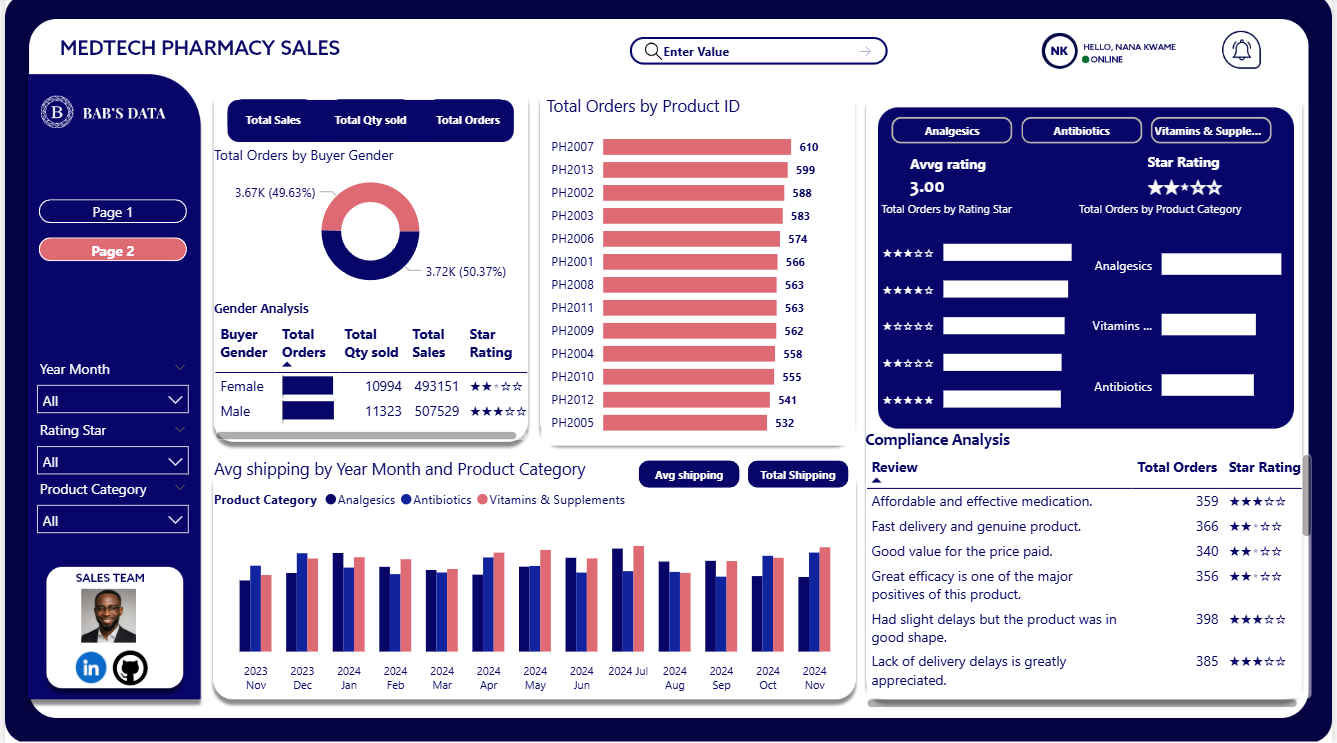

The page's visual inventory and layout, read from the dashboard file:
{"tool":"powerbi","page":{"name":"Page 2","canvas":[1280,720],"ordinal":1},"visuals":[{"type":"advancedSlicerVisual","fields":{"Values":["KPIs.KPIs"]},"box":[209.9,92.9,287.1,49.5],"z":0},{"type":"clusteredBarChart","fields":{"Y":["Analysis.Total Orders"],"Category":["Products_dim.Product ID"]},"box":[517.6,92.9,302.8,339],"z":1000},{"type":"tableEx","title":"Gender Analysis","fields":{"Values":["Sales-facts.Buyer Gender","Analysis.Total Orders","Analysis.Total Qty sold","Analysis.Total Sales","Analysis.Star Rating"]},"box":[196.6,290.8,312.5,141.2],"z":2000},{"type":"donutChart","fields":{"Y":["Analysis.Total Orders"],"Category":["Sales-facts.Buyer Gender"]},"box":[196.6,142.4,312.5,148.4],"z":3000},{"type":"clusteredColumnChart","fields":{"Y":["Analysis.Avg shipping"],"Category":["Date_Table.Year Month"],"Series":["Products_dim.Product Category"]},"box":[196.6,442.8,623.7,235.3],"z":4000},{"type":"advancedSlicerVisual","fields":{"Values":["Shipping.Shipping"]},"box":[606.8,441.6,213.5,36.2],"z":5000},{"type":"advancedSlicerVisual","fields":{"Values":["Products_dim.Product Category"]},"box":[850.5,109.8,378.8,36.2],"z":6000},{"type":"cardVisual","fields":{"Data":["Analysis.Avvg rating","Analysis.Star Rating"]},"box":[856.6,139.9,389.7,62.7],"z":7000},{"type":"clusteredBarChart","fields":{"Y":["Analysis.Total Orders"],"Category":["Sales-facts.Rating Star"]},"box":[840.9,196.6,229.2,219.6],"z":8000},{"type":"clusteredBarChart","fields":{"Y":["Analysis.Total Orders"],"Category":["Products_dim.Product Category"]},"box":[1031.5,196.6,209.9,219.6],"z":9000},{"type":"tableEx","title":"Compliance Analysis","fields":{"Values":["Sales-facts.Review","Analysis.Total Orders","Analysis.Star Rating"]},"box":[824.7,416,440.7,274.1],"z":10000},{"type":"slicer","fields":{"Values":["Date_Table.Year Month"]},"box":[20.5,343.8,166.5,78.4],"z":11000},{"type":"slicer","fields":{"Values":["Sales-facts.Rating Star"]},"box":[20.5,403,166.5,56.7],"z":12000},{"type":"slicer","fields":{"Values":["Products_dim.Product Category"]},"box":[20.5,459.7,166.5,74.8],"z":13000},{"type":"pageNavigator","box":[32.6,194.2,143.6,60.3],"z":14000},{"type":"image","box":[73.8,570,52.5,53.8],"z":15000},{"type":"image","box":[52.5,631.2,60,30],"z":16000},{"type":"image","box":[92.5,630,56.2,33.8],"z":17000},{"type":"textSlicer","box":[616,29.6,234.6,35.8],"z":18000}]}

Visuals, with their boxes in screenshot pixels (x1, y1, x2, y2), scaled from the page's 1280x720 canvas onto the 1337x743 screenshot:
advancedSlicerVisual - KPIs.KPIs: [219, 96, 519, 147]
clusteredBarChart - Analysis.Total Orders x Products_dim.Product ID: [541, 96, 857, 446]
"Gender Analysis" tableEx: [205, 300, 532, 446]
donutChart - Analysis.Total Orders x Sales-facts.Buyer Gender: [205, 147, 532, 300]
clusteredColumnChart - Analysis.Avg shipping x Date_Table.Year Month: [205, 457, 857, 700]
advancedSlicerVisual - Shipping.Shipping: [634, 456, 857, 493]
advancedSlicerVisual - Products_dim.Product Category: [888, 113, 1284, 151]
cardVisual - Analysis.Avvg rating x Analysis.Star Rating: [895, 144, 1302, 209]
clusteredBarChart - Analysis.Total Orders x Sales-facts.Rating Star: [878, 203, 1118, 429]
clusteredBarChart - Analysis.Total Orders x Products_dim.Product Category: [1077, 203, 1297, 429]
"Compliance Analysis" tableEx: [861, 429, 1322, 712]
slicer - Date_Table.Year Month: [21, 355, 195, 436]
slicer - Sales-facts.Rating Star: [21, 416, 195, 474]
slicer - Products_dim.Product Category: [21, 474, 195, 552]
pageNavigator: [34, 200, 184, 263]
image: [77, 588, 132, 644]
image: [55, 651, 118, 682]
image: [97, 650, 155, 685]
textSlicer: [643, 31, 888, 67]
